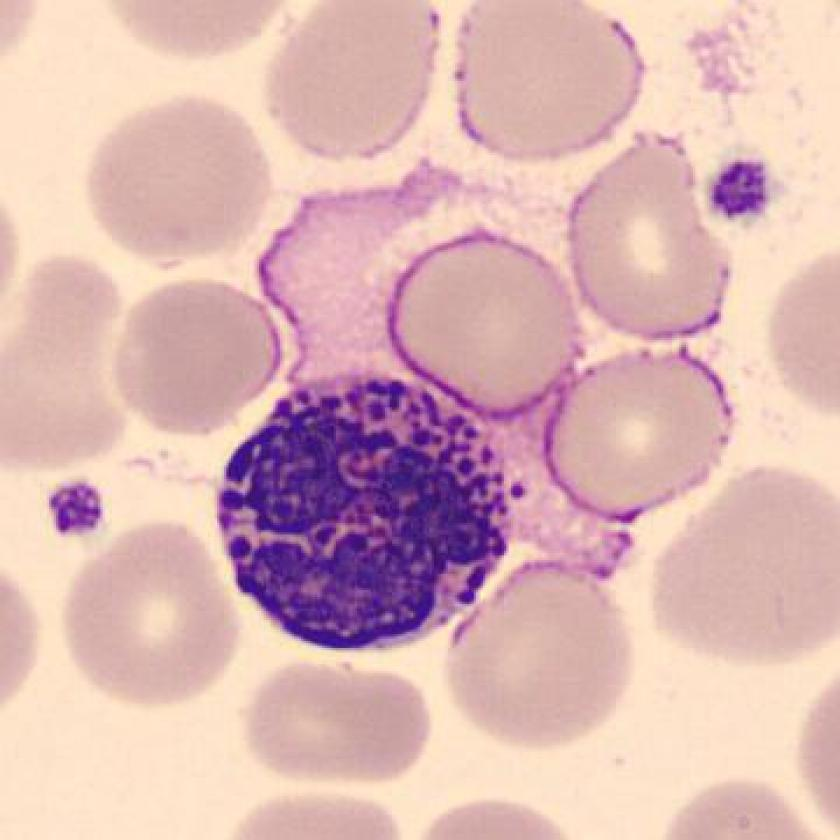basophil: (211, 344, 521, 658)
